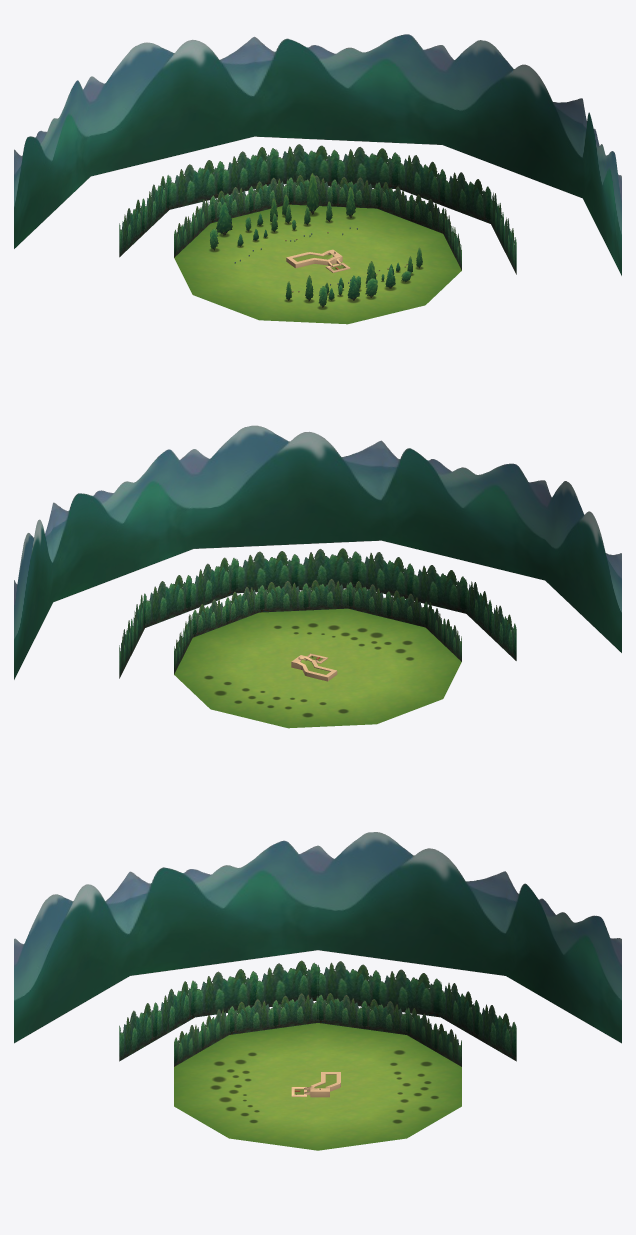
The model's file is hole14.glb.
The picture shows the model from 3 angles, top to bottom: view 1: azimuth 30°, elevation 25°; view 2: azimuth 150°, elevation 25°; view 3: azimuth 270°, elevation 25°; orthographic projection. The views are drawn at different scales.
Parts seen in each view (by area): view 1: background1, grass_base, background3, background2, edges1; view 2: background1, grass_base, background3, background2, edges1; view 3: background1, grass_base, background3, background2, edges1.
Boxes of the visible parts, x1,y1,x2,y2 form: background1: [14, 34, 621, 275]; grass_base: [174, 204, 461, 324]; background3: [119, 144, 516, 274]; background2: [174, 175, 461, 270]; edges1: [286, 249, 350, 272]; background1: [14, 425, 621, 679]; grass_base: [174, 608, 461, 728]; background3: [119, 548, 516, 678]; background2: [174, 579, 461, 674]; edges1: [291, 653, 337, 681]; background1: [14, 832, 621, 1043]; grass_base: [174, 1023, 461, 1150]; background3: [119, 960, 516, 1061]; background2: [174, 993, 461, 1066]; edges1: [291, 1072, 340, 1097].
Size of what is drawn, in the model's own units: 347 by 78.81 by 330.
Materials: 11 (10 with a texture image).
